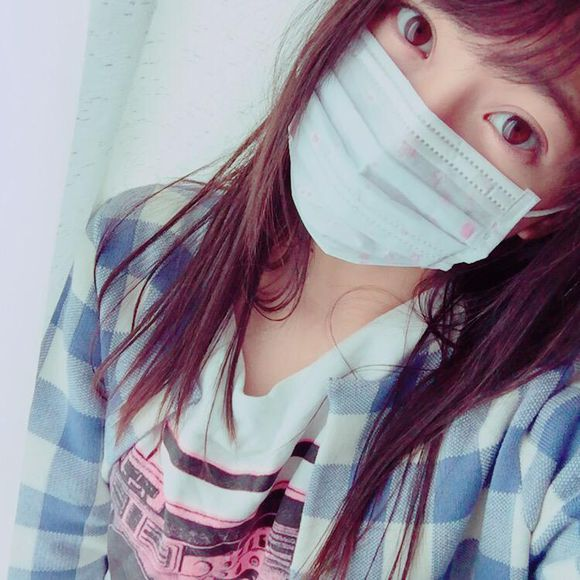face_mask: (287, 1, 578, 265)
